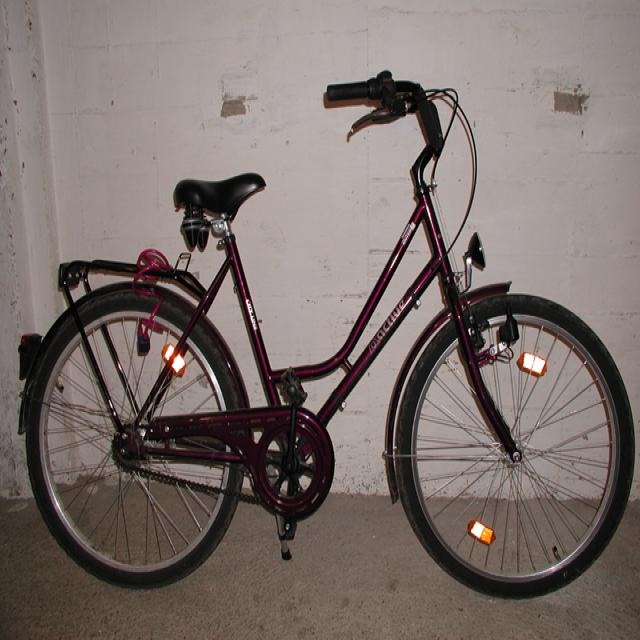bicycle: (17, 69, 635, 599)
